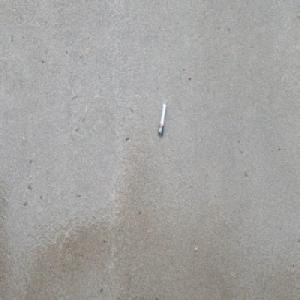Battery: (157, 102, 166, 137)
